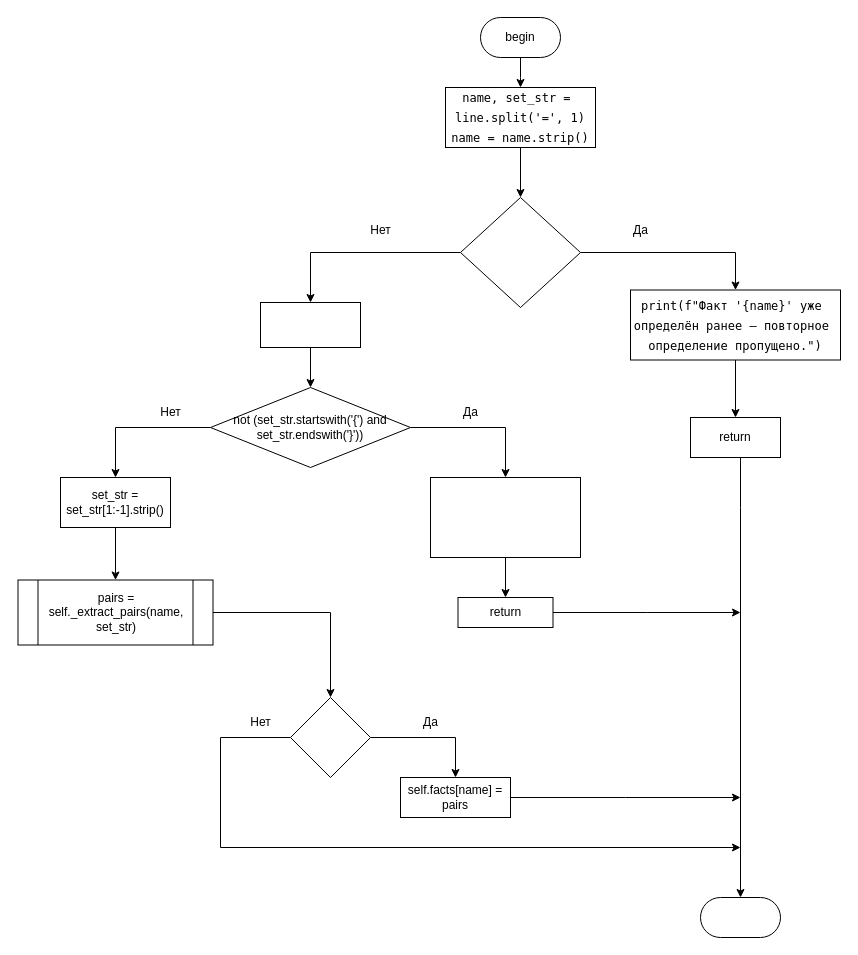
This 858x955 diagram has some shape labels left out. Here are the shapes that lost their labels. From the top down, the centre of each, then its label:
point (520, 252): name in self .facts
point (310, 325): set_str = set_str.strip()
point (505, 517): print(f"Ошибка синтаксиса в факте '{name}' — отсутствуют фигурные скобки.")
point (330, 737): pairs
point (740, 917): end
